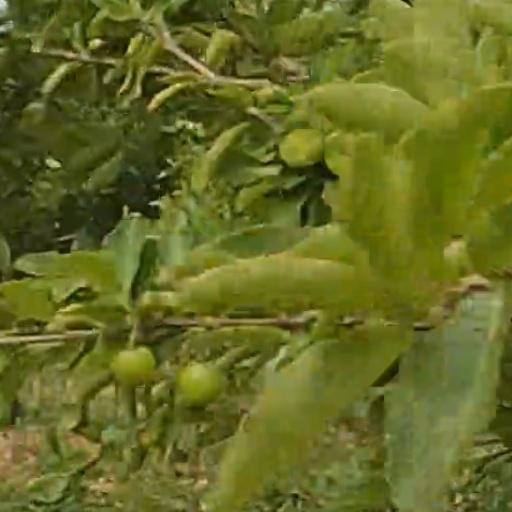acerola_verde: (182, 364, 221, 409), (113, 349, 154, 386)
